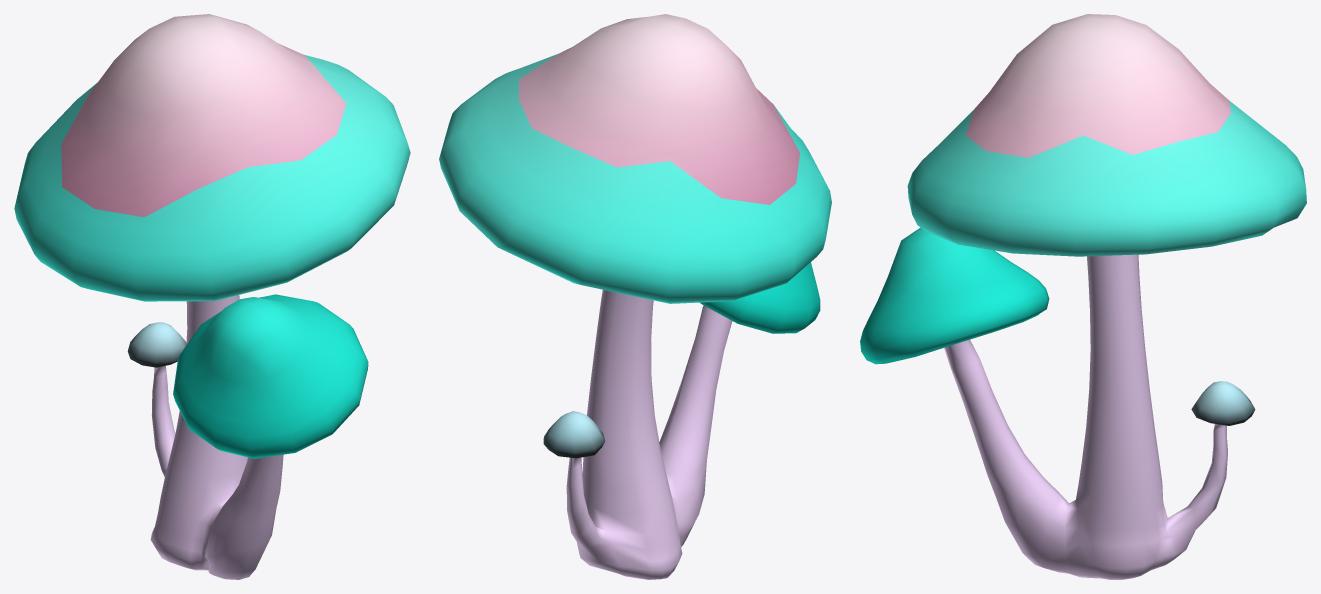
Rendered from Mushroom_0001_0025.fbx.
The picture shows the model from 3 angles, left to right: view 1: azimuth 30°, elevation 25°; view 2: azimuth 150°, elevation 25°; view 3: azimuth 270°, elevation 25°; orthographic projection.
Visible parts, largest first — view 1: Mushroom_0001_0025; view 2: Mushroom_0001_0025; view 3: Mushroom_0001_0025.
Part boxes in pixels (box(x1,y1,x2,y2)): Mushroom_0001_0025: box(14, 14, 410, 579); Mushroom_0001_0025: box(439, 14, 831, 579); Mushroom_0001_0025: box(860, 14, 1306, 579).
Size of the model in its own units: 0.2568 by 0.3947 by 0.2948.
1 material, 1 textured.
